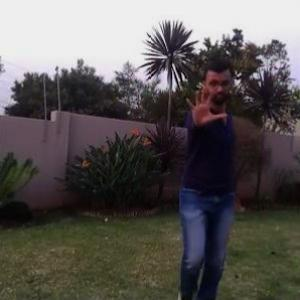follow_hand: (181, 84, 229, 126)
